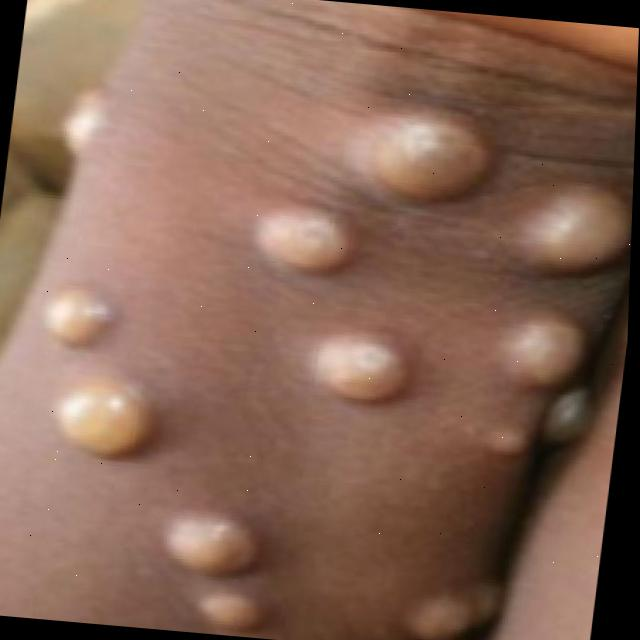Eczema: (0, 65, 638, 640)
